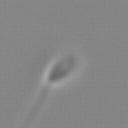normal: (21, 84, 50, 128)
